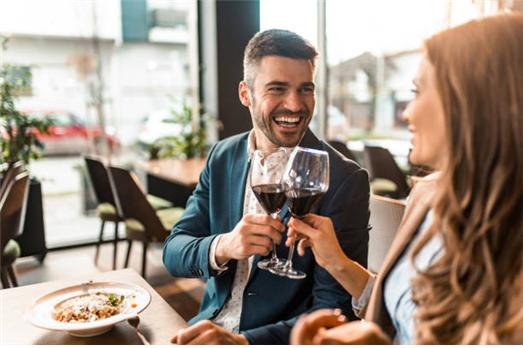alcohol: (272, 146, 332, 281), (249, 150, 283, 271)
